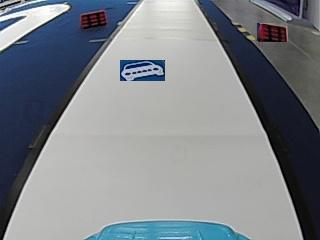bomb: (80, 9, 107, 27)
